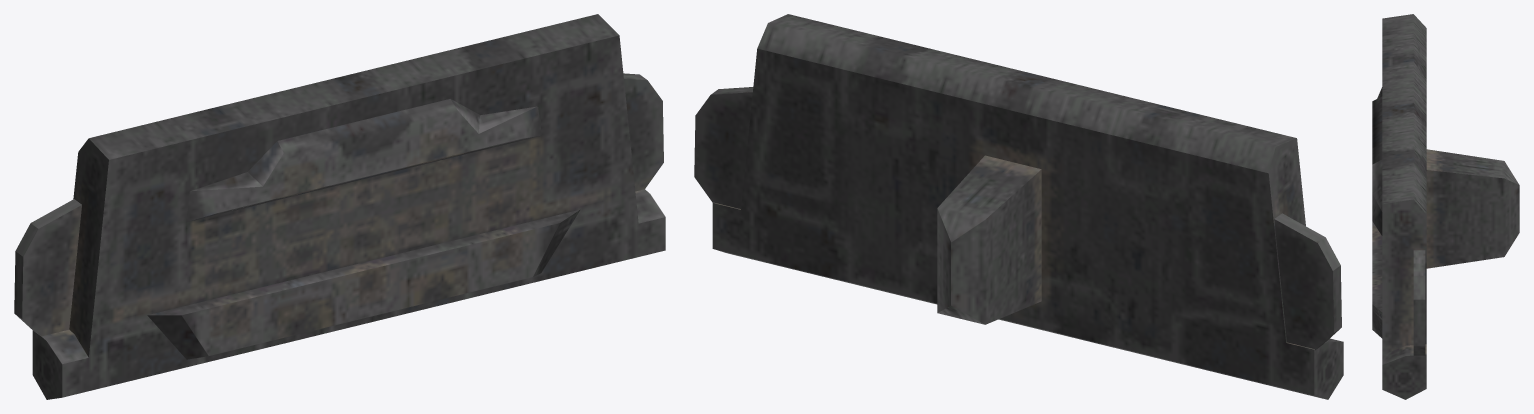
3 views of the same model, side by side, from view 1: azimuth 30°, elevation 25°; view 2: azimuth 150°, elevation 25°; view 3: azimuth 270°, elevation 25° (orthographic). The views are drawn at different scales.
Visible parts, largest first — view 1: set_0_group_0; view 2: set_0_group_0; view 3: set_0_group_0.
Boxes of the visible parts, x1,y1,x2,y2 form: set_0_group_0: [14, 14, 665, 399]; set_0_group_0: [694, 14, 1343, 399]; set_0_group_0: [1372, 14, 1519, 399].
Bounding box in the file's own units: 0.561 × 0.2056 × 0.1498.
1 material, 1 textured.
